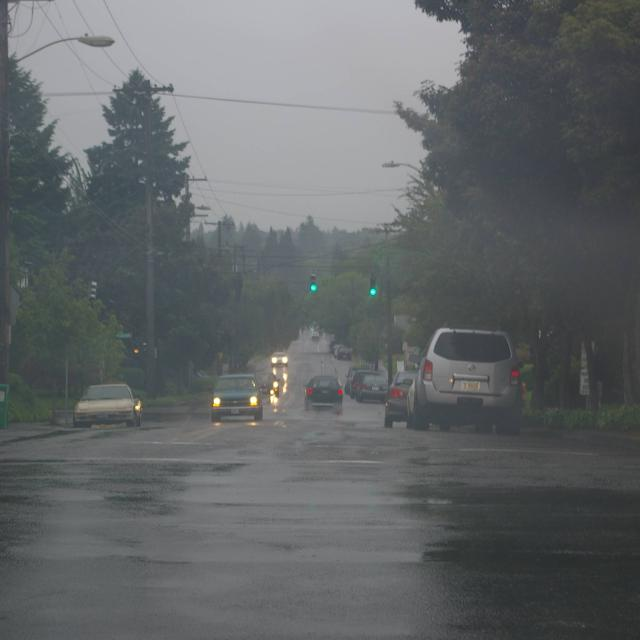car: (407, 328, 527, 436), (74, 383, 142, 428), (211, 374, 262, 425), (383, 372, 416, 429), (303, 374, 343, 413), (357, 372, 389, 405), (258, 370, 278, 396), (270, 350, 288, 367), (349, 372, 360, 398), (337, 348, 352, 362)
